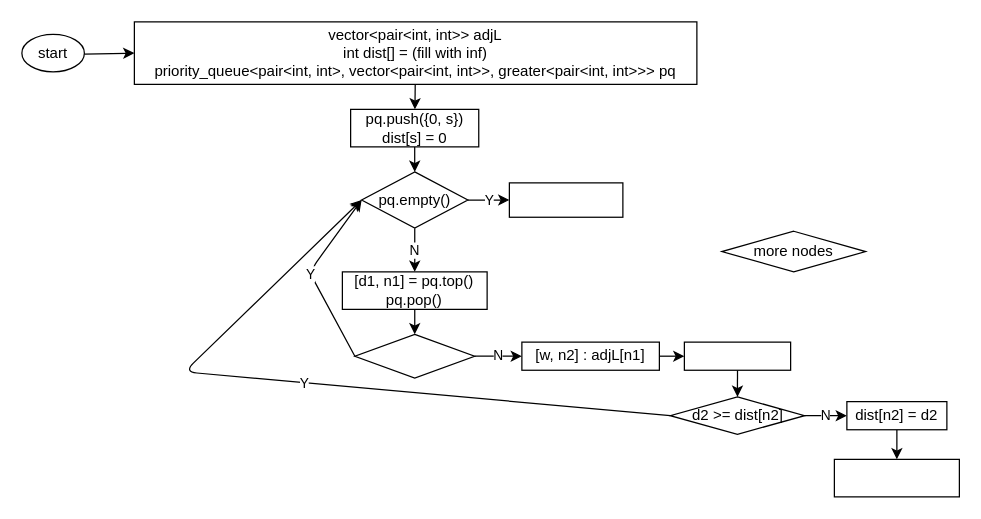
Some shapes in this 981 by 519 pixel diagram are drawn without their labels. The shapes that lost their labels are listed below. From the top down, each one's centre as x and y in pixels, then its label:
the point at 565,199: print(dist[n-1])
the point at 414,355: d1 > dist[n1]
the point at 737,355: d2 = d1 + w
the point at 896,477: pq.push({d2, n2})
